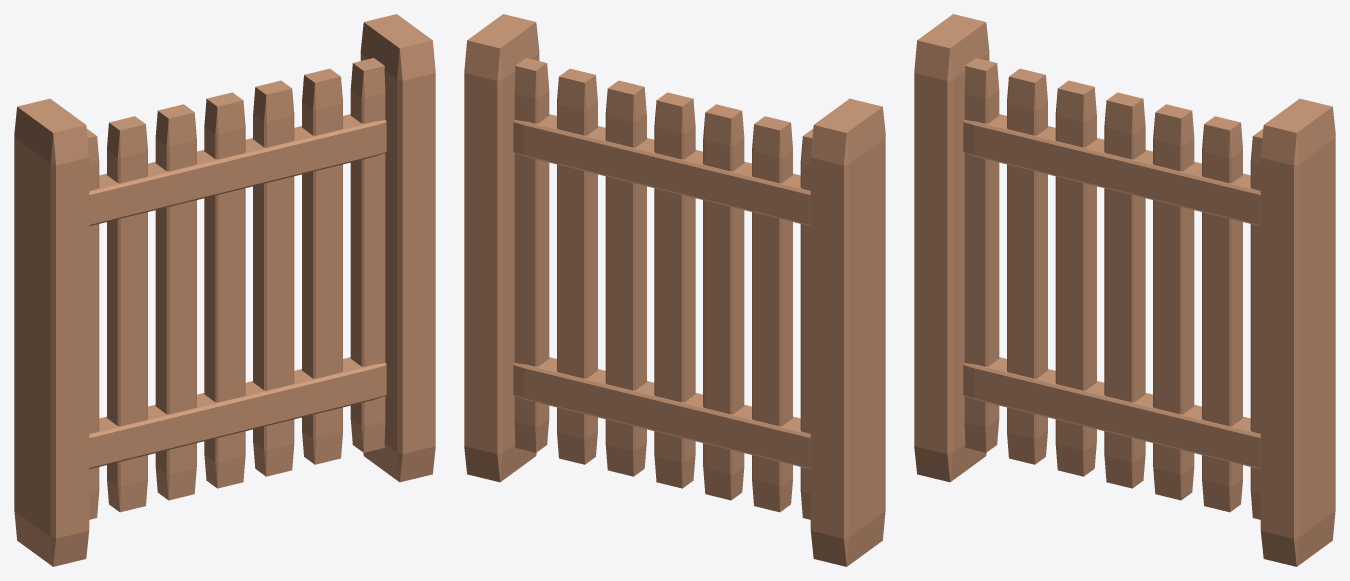
File: b19_self_closing_pool_gate.glb
3 renders of one model, left to right at view 1: azimuth 30°, elevation 25°; view 2: azimuth 150°, elevation 25°; view 3: azimuth 330°, elevation 25°, orthographic.
Parts seen in each view (by area): view 1: b19_self_closing_pool_gate; view 2: b19_self_closing_pool_gate; view 3: b19_self_closing_pool_gate.
Part boxes in pixels (x1,y1,x2,y2): b19_self_closing_pool_gate: (14, 14, 435, 566); b19_self_closing_pool_gate: (464, 14, 885, 566); b19_self_closing_pool_gate: (914, 14, 1335, 566).
Size of the model in its own units: 1.5 by 1.61 by 0.282.
